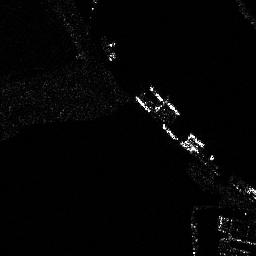ship: (186, 131, 218, 160)
